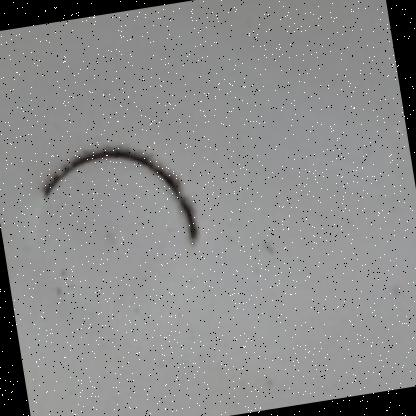Crack: (16, 95, 222, 288)
